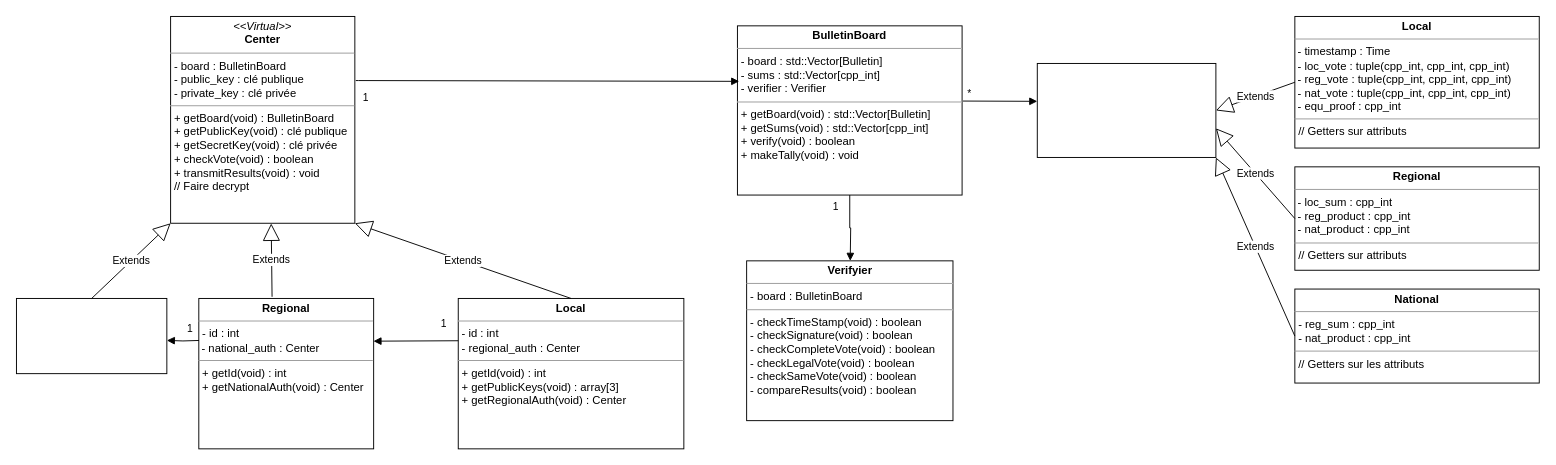
Some shapes in this 1556 by 465 pixel diagram are drawn without their labels. The centre of each missing label's shape, as x and y in pixels:
"<<Virtual>> Bulletin - pseudonym : cpp_int + getPseudonym(void) : cpp_int" belongs at point 1126,110.
"National" belongs at point 91,336.
